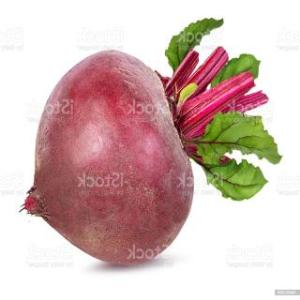beet: (20, 48, 270, 266)
